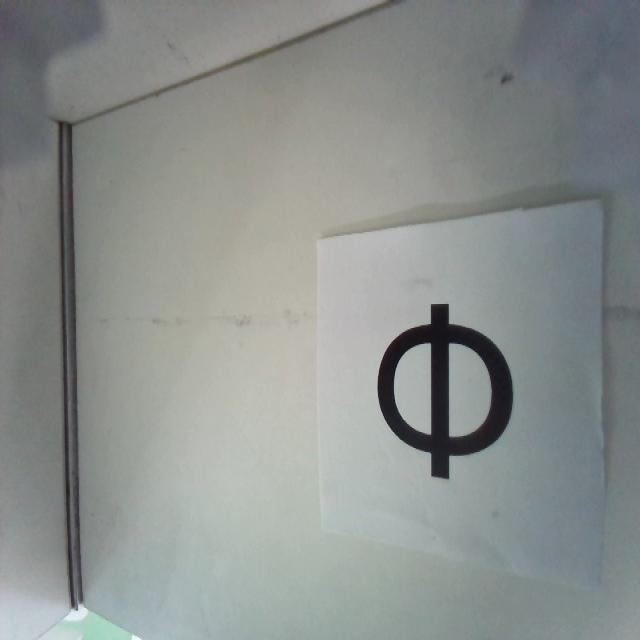F: (376, 305, 516, 474)
